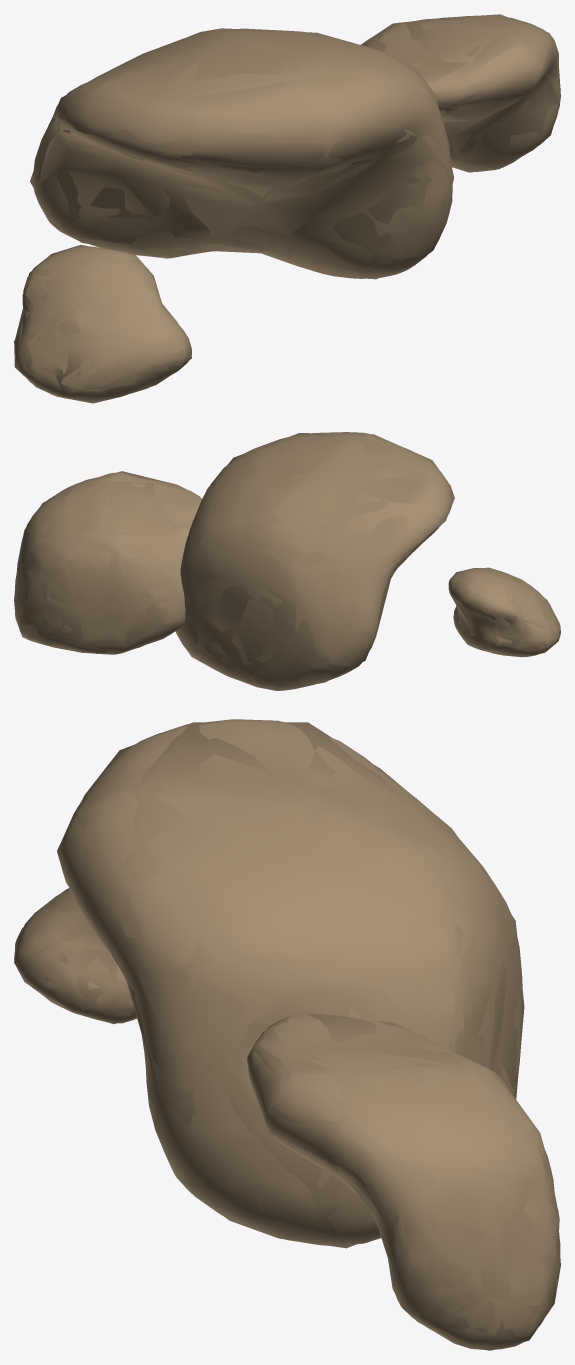
File: rock_formation_0.glb
3 views of the same model, one above another, from view 1: azimuth 30°, elevation 25°; view 2: azimuth 150°, elevation 25°; view 3: azimuth 270°, elevation 25° (orthographic). The views are drawn at different scales.
Visible parts, largest first — view 1: Rock_0, Rock_0_Far, Rock_2, Rock_1, Rock_1_Far, Rock_2_Far; view 2: Rock_0, Rock_1, Rock_0_Far, Rock_1_Far, Rock_2, Rock_2_Far; view 3: Rock_0, Rock_1, Rock_0_Far, Rock_1_Far, Rock_2, Rock_2_Far.
Boxes of the visible parts, <box> form: Rock_0: <box>33,28,452,278</box>; Rock_0_Far: <box>30,28,453,279</box>; Rock_2: <box>14,245,191,402</box>; Rock_1: <box>361,15,560,171</box>; Rock_1_Far: <box>369,14,560,172</box>; Rock_2_Far: <box>14,245,191,403</box>; Rock_0: <box>176,432,451,690</box>; Rock_1: <box>14,472,201,654</box>; Rock_0_Far: <box>175,433,454,690</box>; Rock_1_Far: <box>14,471,199,653</box>; Rock_2: <box>448,568,560,656</box>; Rock_2_Far: <box>449,567,560,657</box>; Rock_0: <box>60,719,522,1245</box>; Rock_1: <box>247,1013,560,1349</box>; Rock_0_Far: <box>57,722,524,1248</box>; Rock_1_Far: <box>247,1013,560,1350</box>; Rock_2: <box>14,889,136,1023</box>; Rock_2_Far: <box>14,888,136,1024</box>.
Size of the model in its own units: 9.22 by 3.83 by 5.13.
